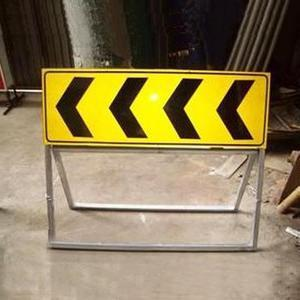sign: (42, 69, 271, 151)
